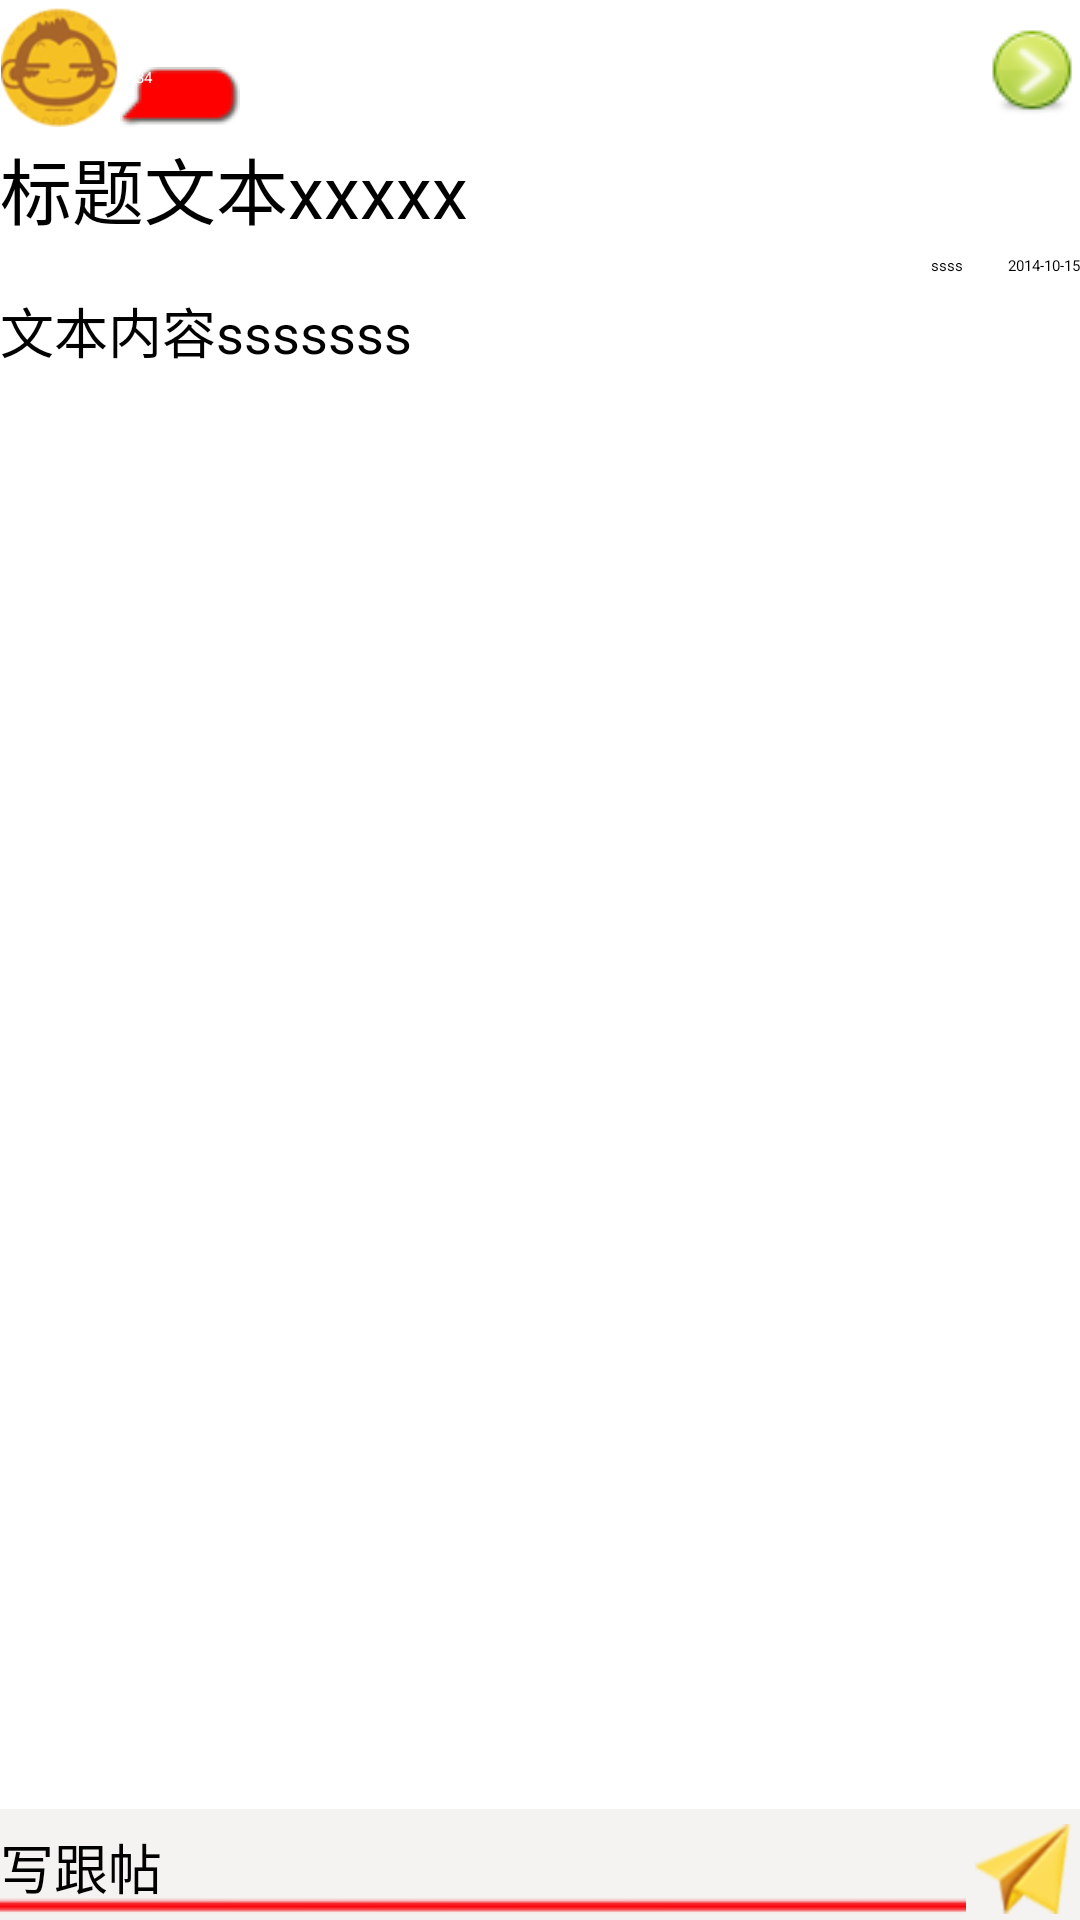

Icon click points for this 1080×1920 phone screenshot, format (x=x, y=y):
user: (x=59, y=67)
